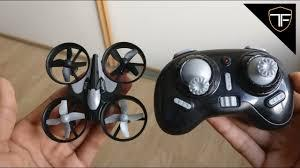drone: (41, 41, 148, 144)
